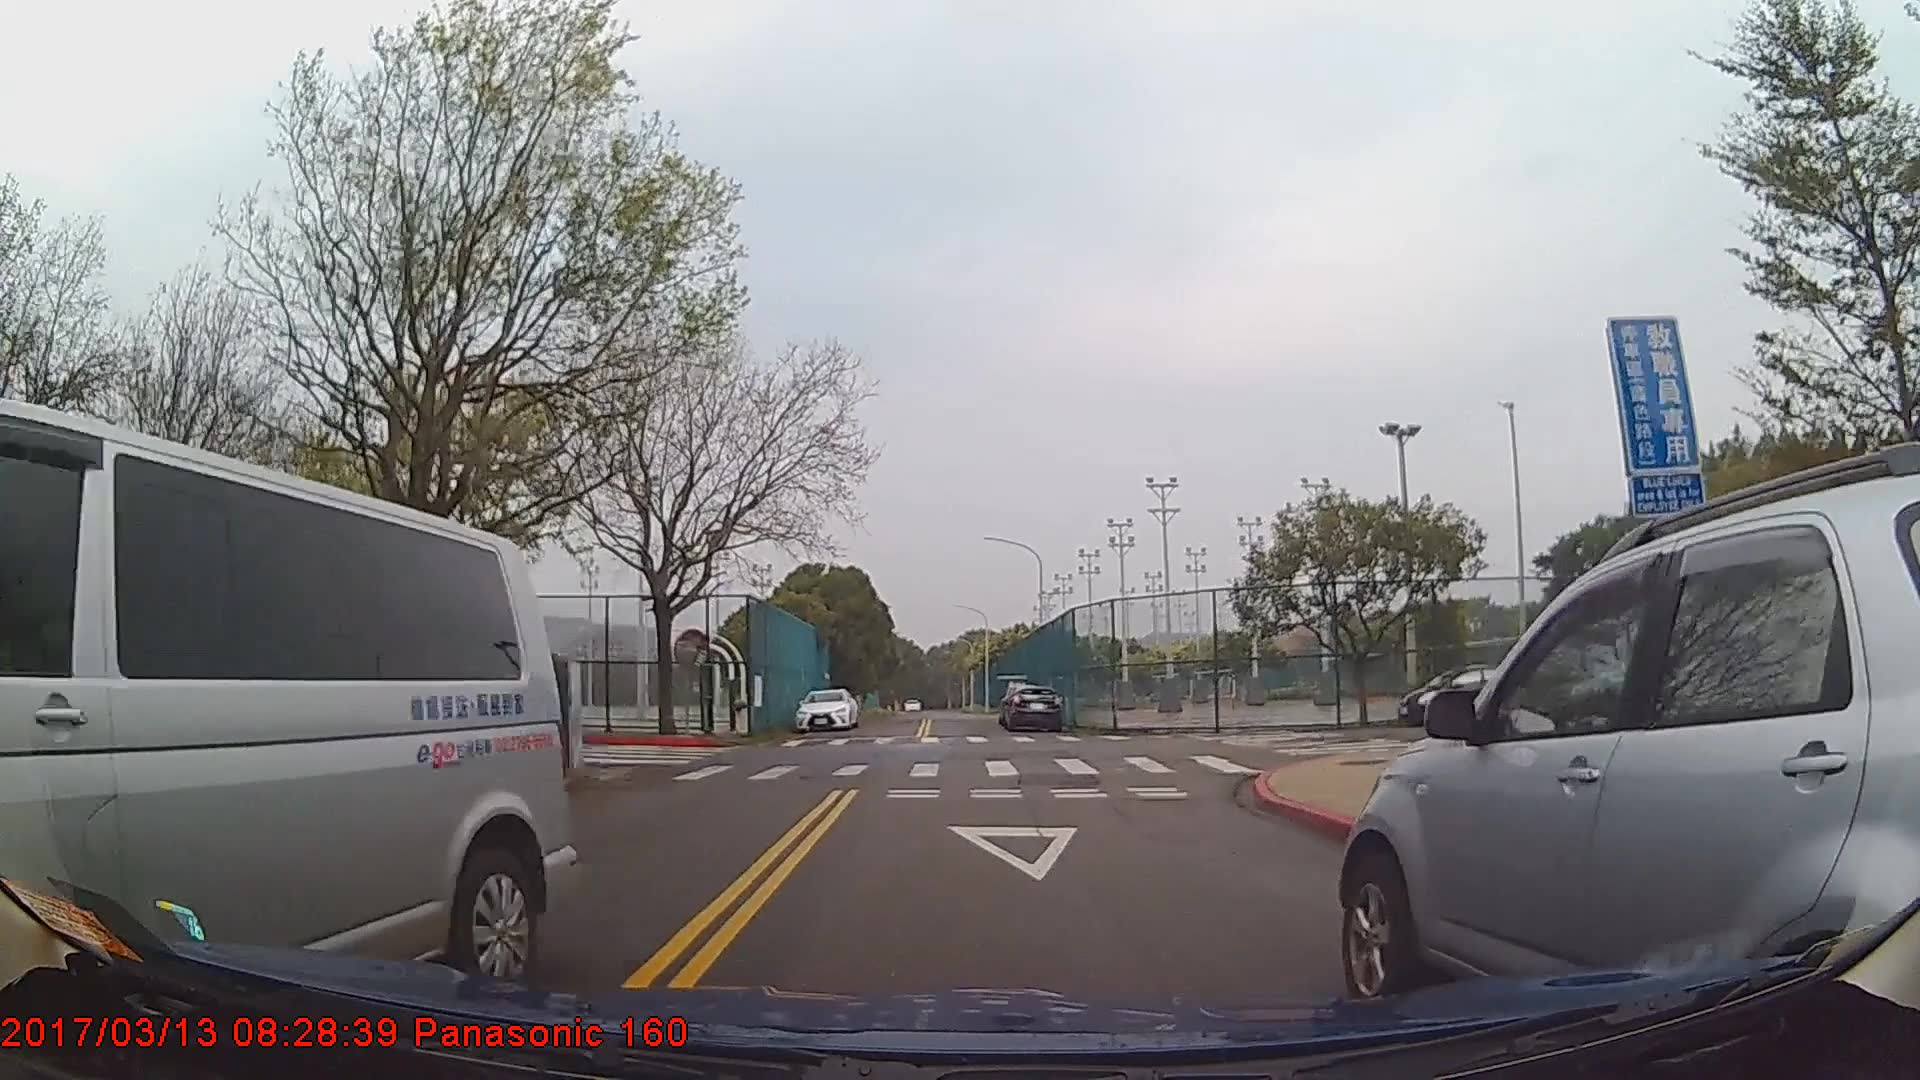vehicle: (0, 396, 579, 1015), (1336, 469, 1919, 1036), (1399, 662, 1524, 727), (1001, 682, 1063, 733), (793, 684, 858, 731)
